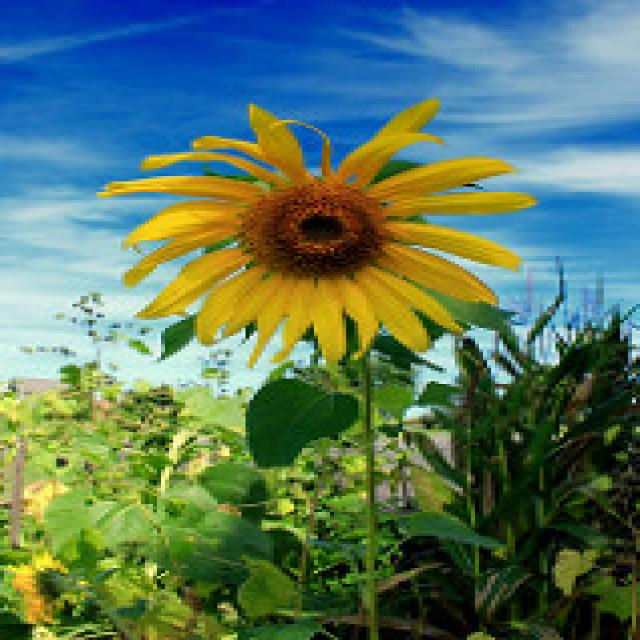sunflower: (85, 90, 528, 370)
